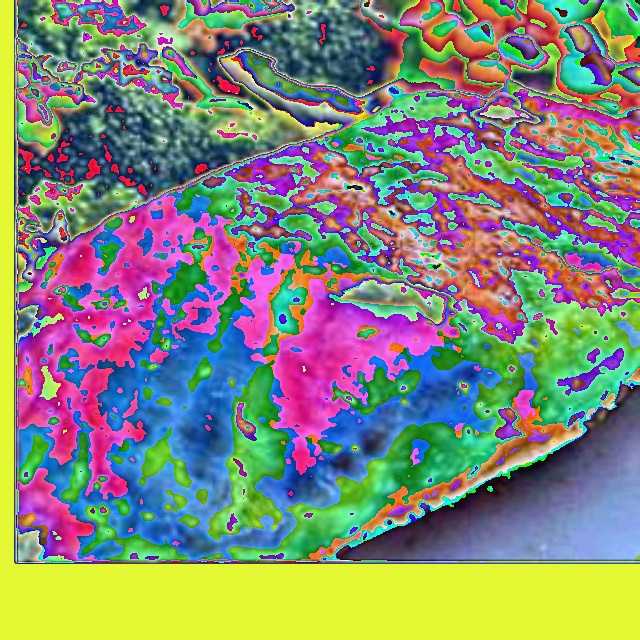background: (18, 0, 639, 563)
